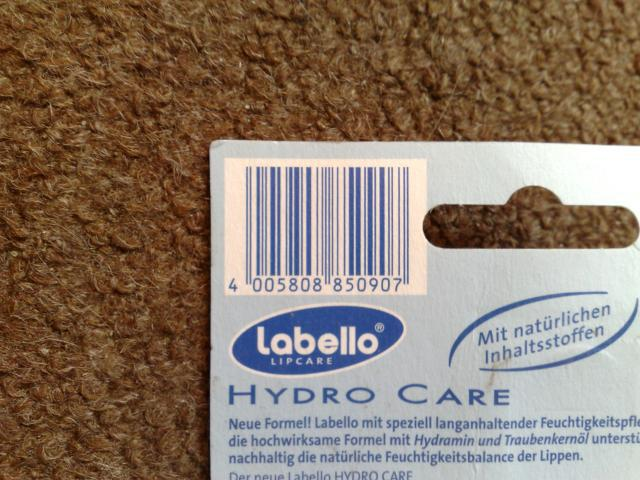Barkod: (241, 163, 410, 276)
